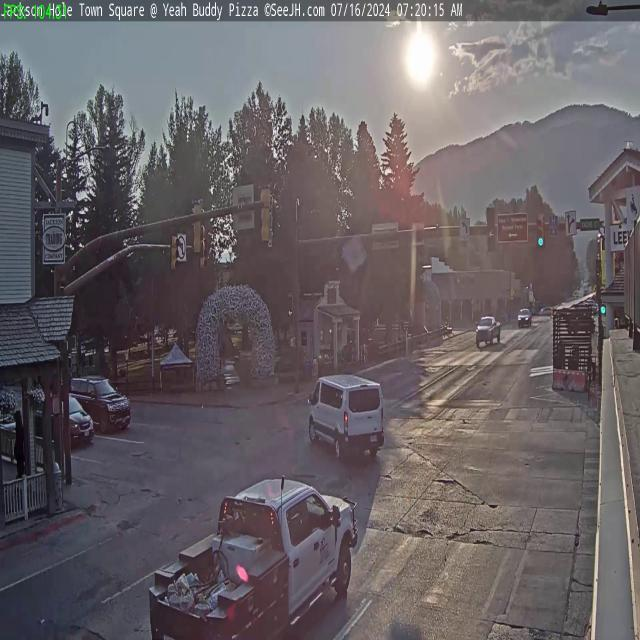person: (145, 476, 361, 640), (476, 316, 502, 348)
sedan: (66, 378, 132, 433), (516, 306, 532, 326)
suv: (192, 200, 204, 256), (260, 186, 272, 242), (170, 233, 178, 270), (200, 236, 208, 270), (536, 214, 544, 248), (488, 207, 494, 250)
truck: (307, 372, 383, 458), (33, 396, 93, 446)
